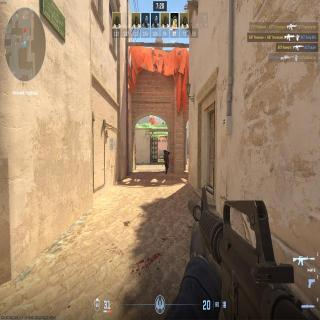CT-Body: (162, 145, 172, 177)
CT-Head: (162, 147, 168, 156)
